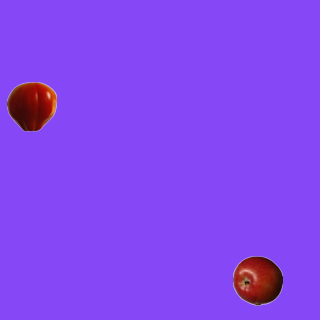Apple Braeburn: (232, 255, 282, 305)
Tomato 1: (6, 81, 56, 131)
